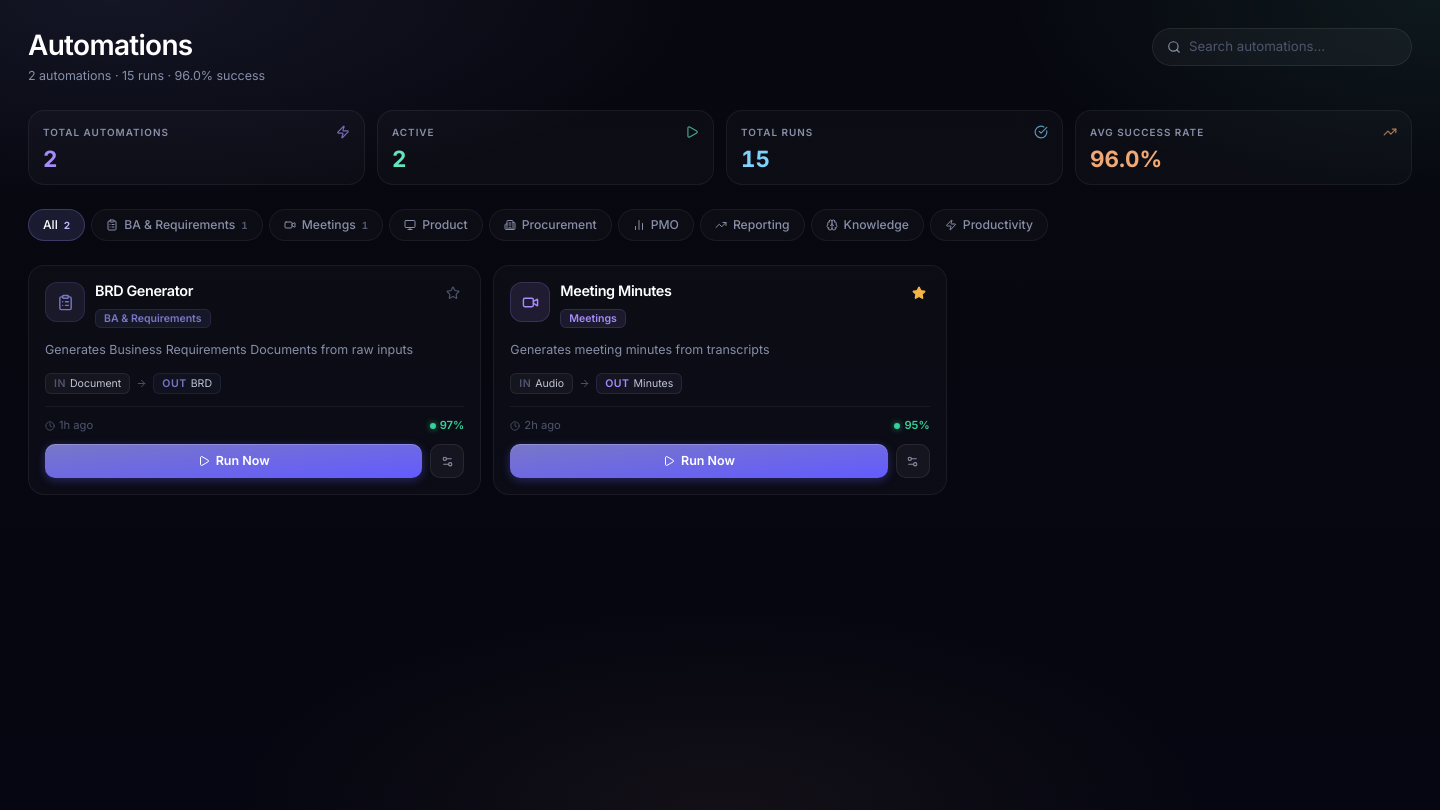
Test: Automations – Run button › shows "no webhook configured" toast when Run Now clicked on non-BRD automation
This screenshot has width=1440, height=810.
expect the heading "BRD Generator" is shown: met, box left=95, top=282, right=193, bottom=299
// Click second card (auto-002 Meeting Minutes) which has no webhook configured
Click the button "Run Now" below "2h ago".
click(699, 461)  # box left=510, top=444, right=888, bottom=478
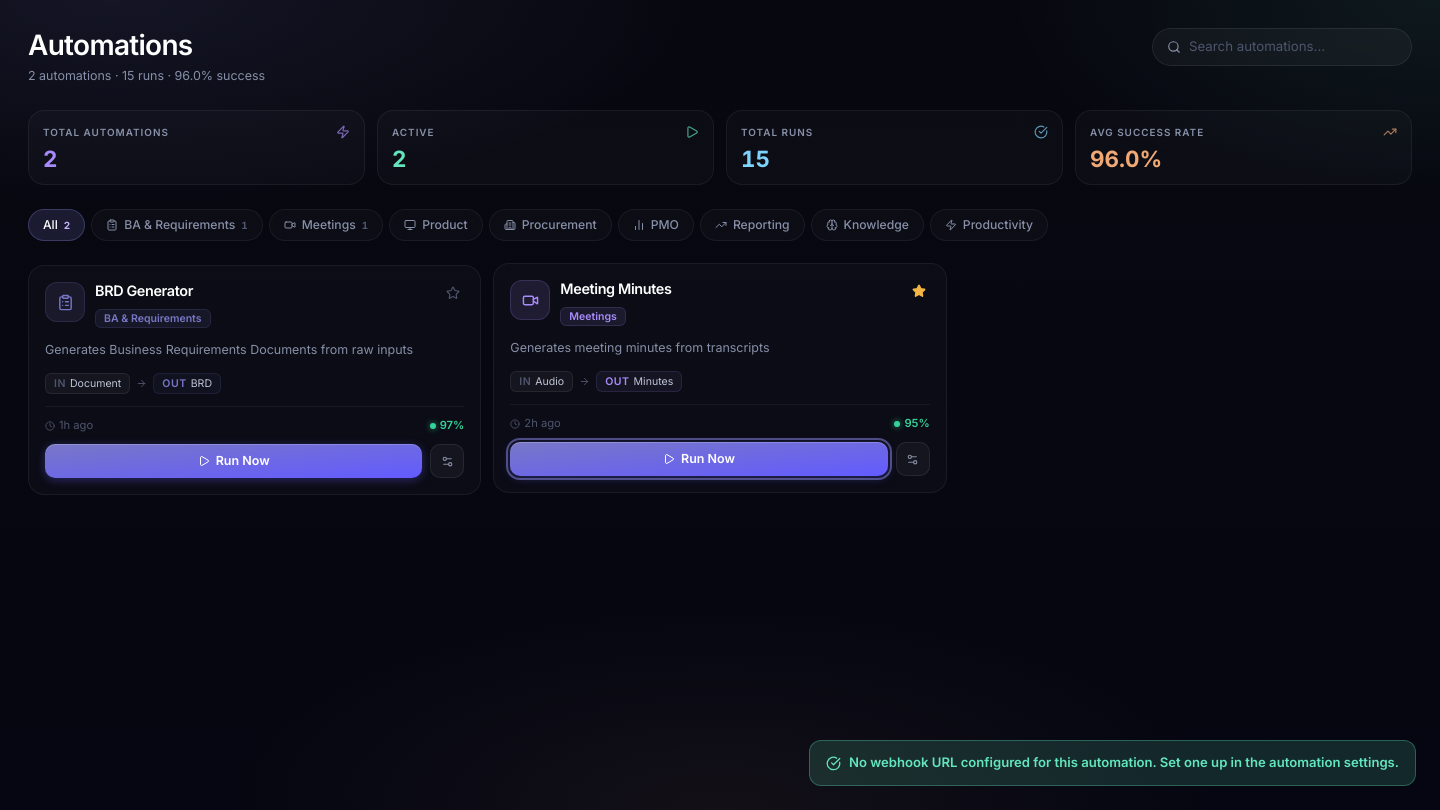
expect the text "No webhook URL configured" is shown: met, box left=849, top=754, right=1399, bottom=770
